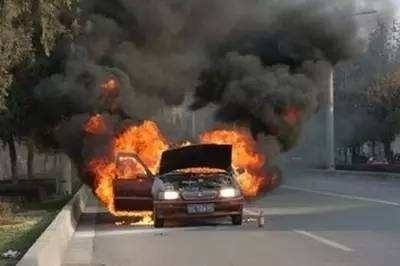fire: (82, 104, 275, 227)
